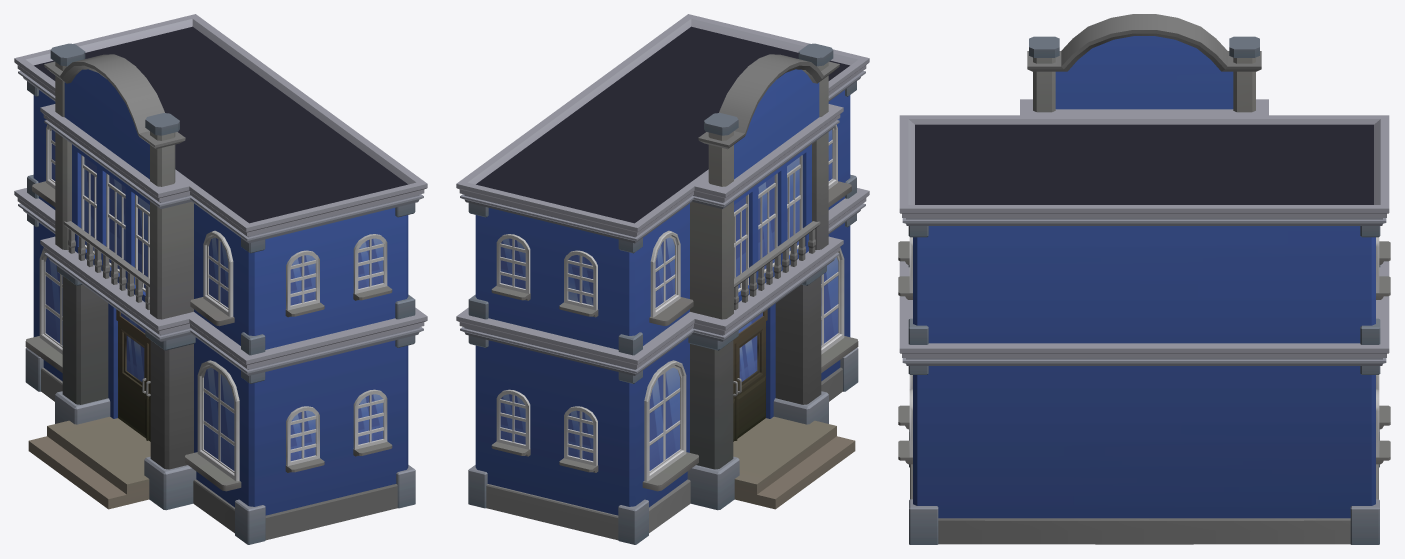
The model's file is Building_24_H.fbx.
3 renders of one model, left to right at view 1: azimuth 30°, elevation 25°; view 2: azimuth 150°, elevation 25°; view 3: azimuth 270°, elevation 25°, orthographic. The views are drawn at different scales.
Parts seen in each view (by area): view 1: Building_24_H; view 2: Building_24_H; view 3: Building_24_H.
Boxes of the visible parts, box(x1,y1,x2,y2) form: Building_24_H: box(14, 14, 427, 544); Building_24_H: box(456, 14, 869, 544); Building_24_H: box(898, 14, 1390, 544).
Bounding box in the file's own units: 535 × 847 × 888.
